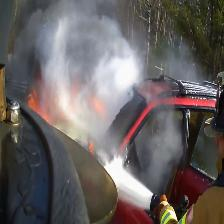smoke: (17, 0, 164, 201)
